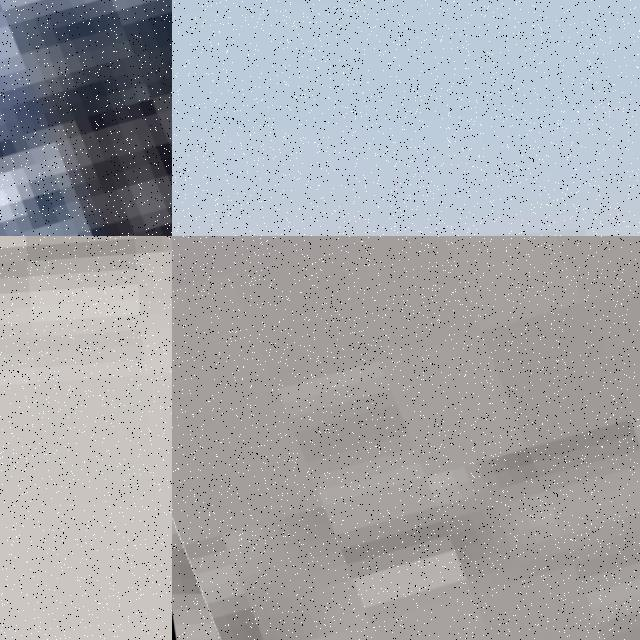drone: (172, 236, 640, 640), (0, 0, 172, 236)
